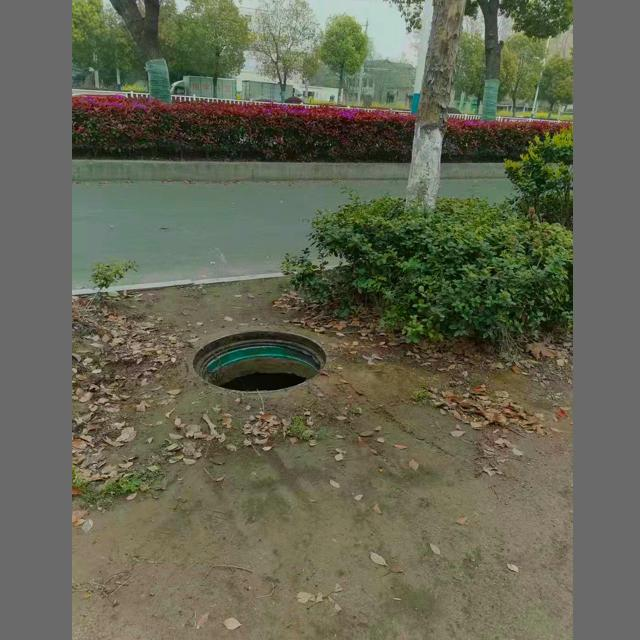lose: (182, 323, 334, 395)
